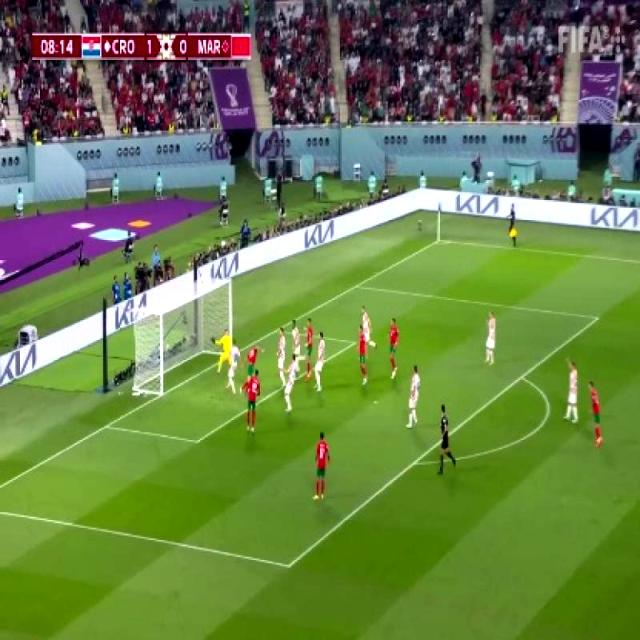bigarea_bottom_inner: (277, 550, 298, 580)
bigarea_top_inner: (590, 306, 604, 328)
bigarea_top_outter: (348, 276, 364, 294)
bottom_arc_area_intersection: (405, 451, 423, 472)
corner: (429, 232, 448, 248)
smallarea_bottom_inner: (186, 426, 206, 454)
smallarea_bottom_outter: (97, 412, 115, 438)
smallarea_top_inner: (346, 332, 362, 352)
smallarea_top_outter: (270, 318, 284, 337)
top_arc_area_intersection: (512, 366, 530, 386)
